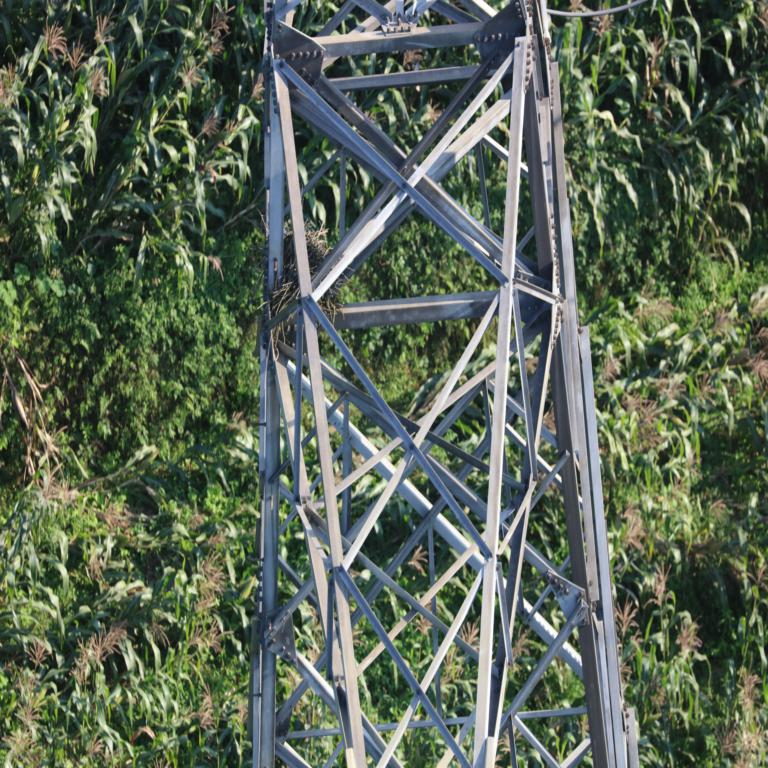nest: (277, 236, 343, 319)
